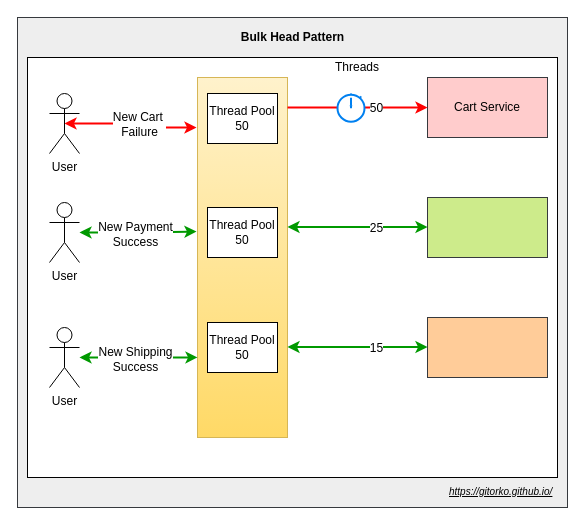
Image size: 585x525. Some labels were removed from this diagram. Here are the shapes that lost their labels. From the top down, the box of each, then its label:
(426, 196, 548, 258): Payment Service
(196, 76, 288, 438): Service
(426, 316, 548, 378): Shipping Service
